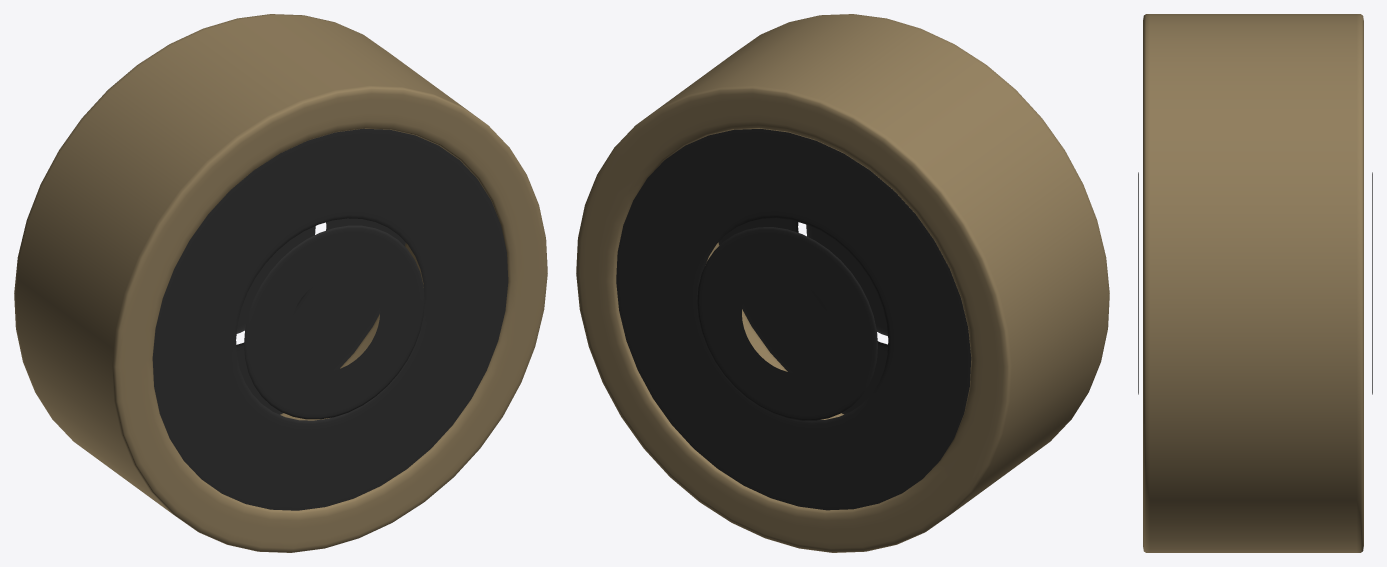
Rendered from 8-bigwheel_B.dae.
3 renders of one model, left to right at view 1: azimuth 30°, elevation 25°; view 2: azimuth 150°, elevation 25°; view 3: azimuth 270°, elevation 25°, orthographic. The views are drawn at different scales.
Parts seen in each view (by area): view 1: Object012_Brown Beige_0, Object012_Black PVC Fb satin_0; view 2: Object012_Brown Beige_0, Object012_Black PVC Fb satin_0; view 3: Object012_Brown Beige_0, Object012_Black PVC Fb satin_0.
Part boxes in pixels (x1,y1,x2,y2): Object012_Brown Beige_0: (14, 14, 547, 552); Object012_Black PVC Fb satin_0: (152, 128, 508, 510); Object012_Brown Beige_0: (576, 14, 1109, 552); Object012_Black PVC Fb satin_0: (616, 129, 971, 510); Object012_Brown Beige_0: (1143, 14, 1363, 552); Object012_Black PVC Fb satin_0: (1138, 172, 1372, 394).
Bounding box in the file's own units: 0.1336 × 0.0583 × 0.1336.
